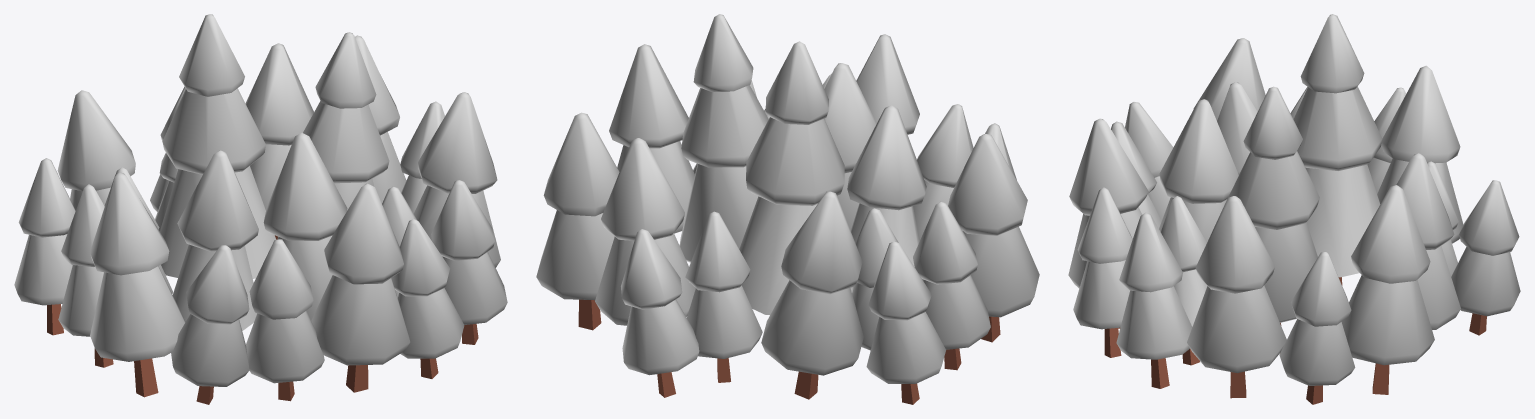
File: forest_snow.gltf.glb
3 views of the same model, side by side, from view 1: azimuth 30°, elevation 25°; view 2: azimuth 150°, elevation 25°; view 3: azimuth 270°, elevation 25° (orthographic). The views are drawn at different scales.
Parts seen in each view (by area): view 1: forest_snow; view 2: forest_snow; view 3: forest_snow.
Boxes of the visible parts, bbox=[...] form: forest_snow: bbox=[14, 14, 507, 404]; forest_snow: bbox=[536, 14, 1039, 404]; forest_snow: bbox=[1068, 14, 1520, 404].
Bounding box in the file's own units: 1.93 × 1.36 × 1.9.
